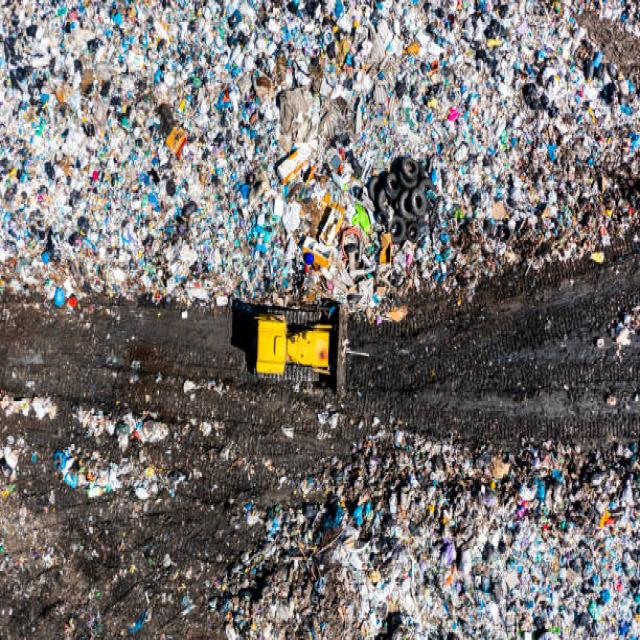plastic: (8, 3, 366, 293), (269, 445, 624, 640), (366, 3, 636, 160), (438, 160, 632, 276)
